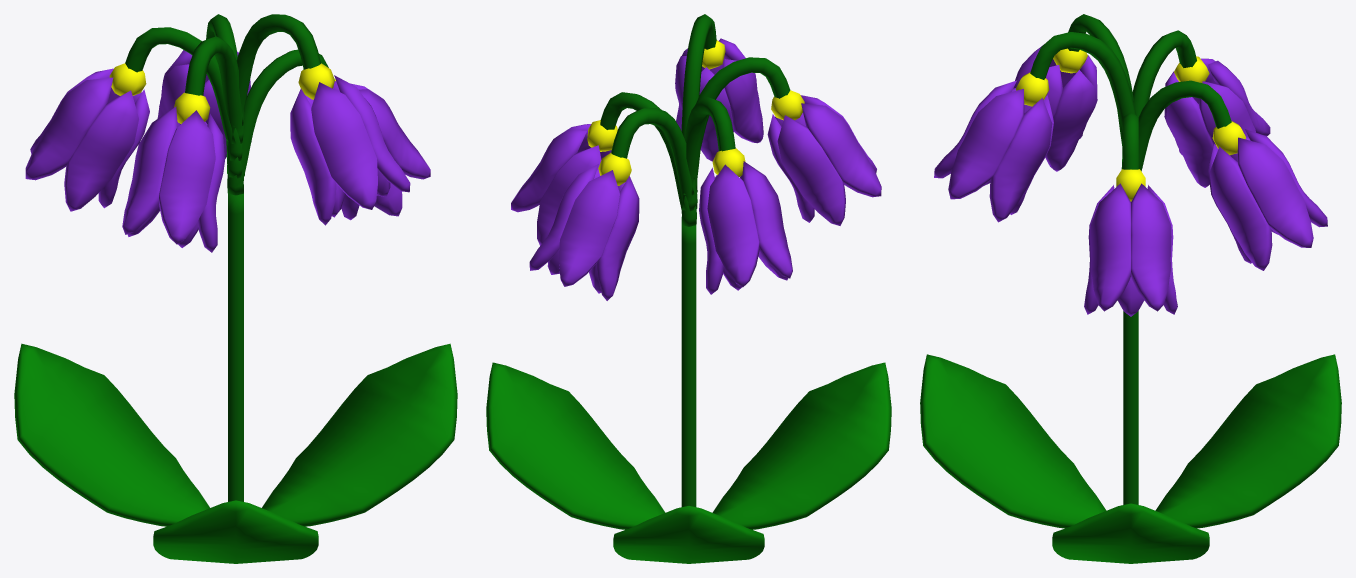
File: bluebells_0002.obj
The picture shows the model from 3 angles, left to right: view 1: azimuth 30°, elevation 25°; view 2: azimuth 150°, elevation 25°; view 3: azimuth 270°, elevation 25°; orthographic projection. The views are drawn at different scales.
Visible parts, largest first — view 1: bluebells_0002; view 2: bluebells_0002; view 3: bluebells_0002.
Boxes of the visible parts, x1=… form: bluebells_0002: x1=14, y1=14, x2=457, y2=563; bluebells_0002: x1=486, y1=14, x2=891, y2=563; bluebells_0002: x1=920, y1=14, x2=1341, y2=563.
Bounding box in the file's own units: 2.3 × 3.16 × 2.35.
Materials: 1 (1 with a texture image).
